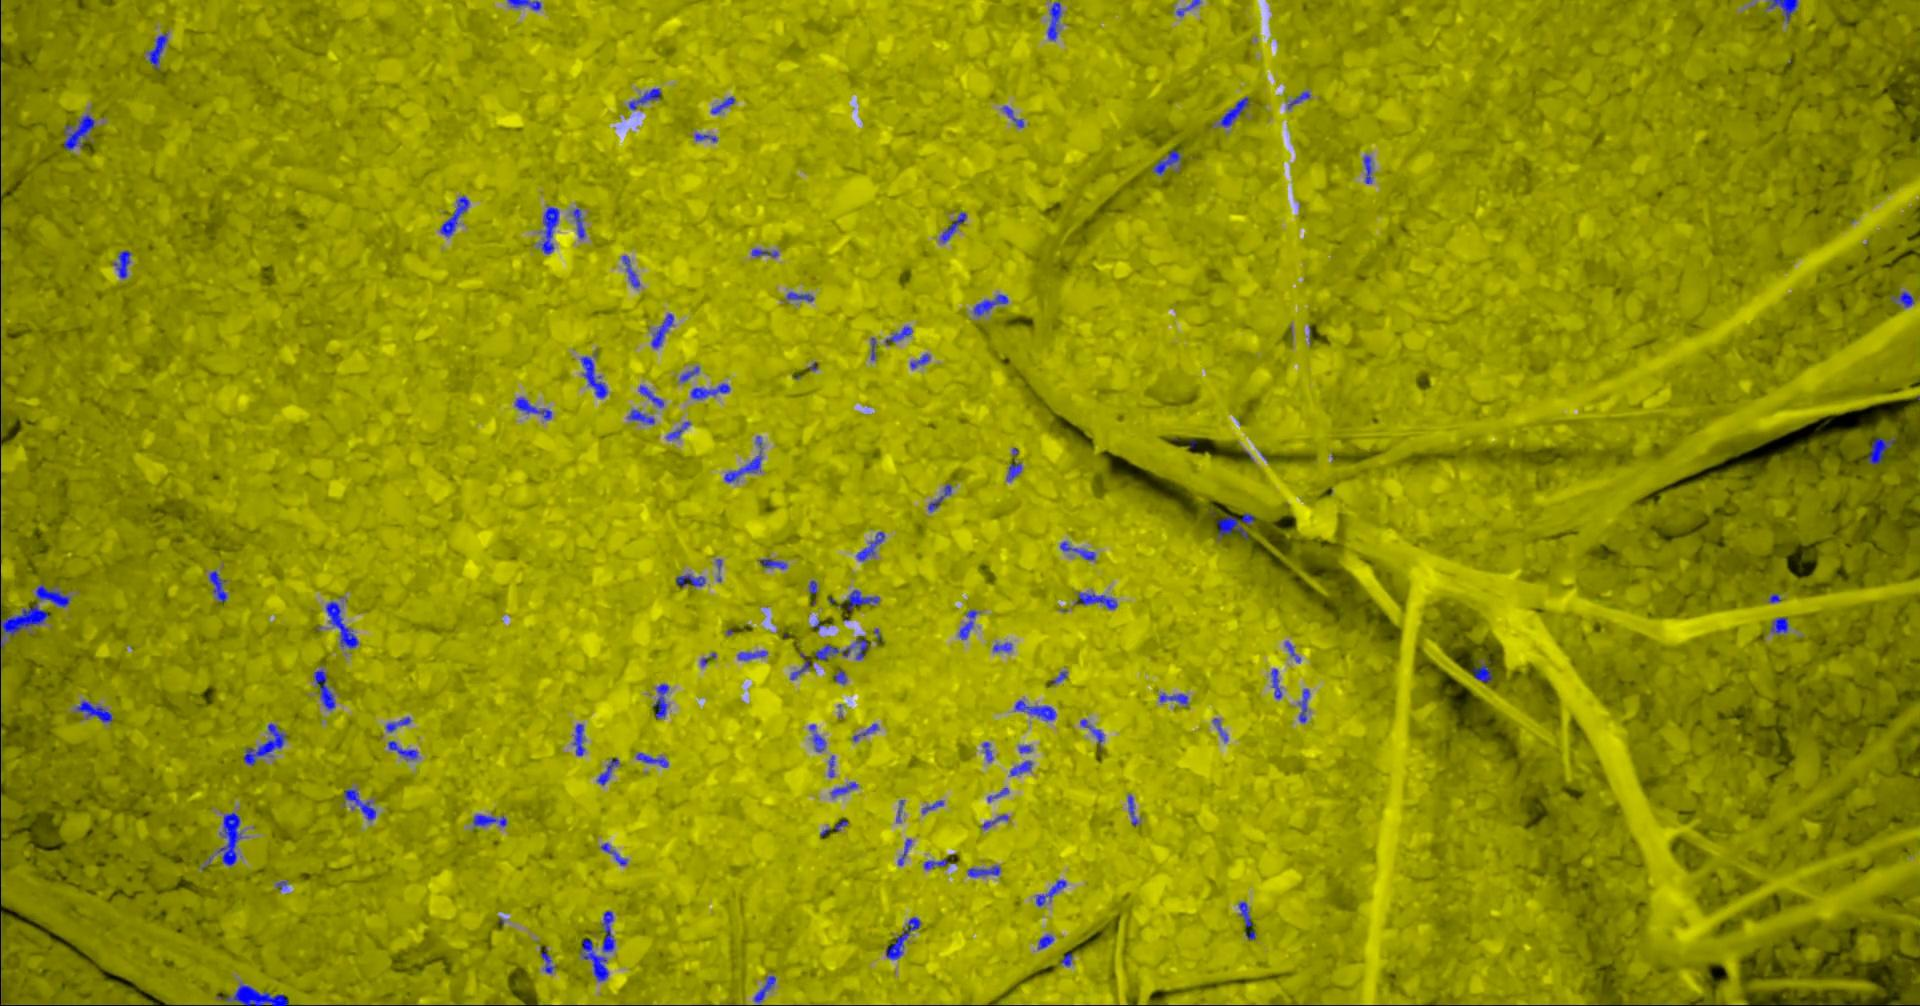ant: (0, 603, 48, 648), (243, 723, 286, 765), (723, 436, 761, 481), (216, 983, 288, 1005), (325, 601, 358, 648), (885, 917, 919, 959), (216, 812, 241, 865), (579, 939, 608, 981), (439, 196, 469, 236), (62, 114, 94, 150), (580, 356, 607, 398), (343, 788, 375, 821), (1217, 512, 1255, 539), (1217, 97, 1248, 127), (538, 206, 557, 253), (312, 669, 334, 709), (75, 699, 112, 721), (1015, 700, 1055, 720), (856, 531, 884, 560), (1035, 879, 1065, 906), (940, 211, 965, 243), (36, 583, 69, 607), (514, 398, 551, 419), (1867, 437, 1895, 465), (651, 312, 673, 348), (147, 32, 168, 69), (842, 589, 879, 610), (973, 293, 1007, 315), (1079, 719, 1103, 749), (629, 88, 662, 109), (1074, 592, 1117, 608), (927, 483, 951, 511), (1766, 0, 1797, 22), (957, 608, 979, 639), (814, 644, 853, 661), (1153, 149, 1178, 174), (789, 652, 811, 680), (599, 842, 627, 865), (599, 909, 615, 951), (1059, 541, 1095, 559), (1238, 901, 1255, 939), (596, 757, 618, 784), (690, 384, 729, 399), (753, 976, 775, 1002), (621, 255, 639, 287), (208, 570, 226, 602), (387, 741, 417, 760), (1048, 0, 1062, 39), (1006, 447, 1021, 481), (653, 683, 668, 718), (639, 385, 663, 406), (635, 752, 668, 767), (112, 250, 130, 278), (885, 326, 912, 344), (808, 724, 825, 751), (1002, 105, 1023, 127), (1470, 661, 1492, 682), (665, 420, 690, 439), (852, 723, 877, 741), (820, 819, 847, 836), (830, 781, 857, 796), (571, 723, 584, 754), (710, 97, 734, 113), (1159, 694, 1187, 708), (1175, 0, 1200, 15), (982, 814, 1007, 829), (540, 948, 555, 973), (1298, 688, 1309, 721), (472, 814, 505, 826), (627, 409, 654, 423), (571, 208, 584, 238), (968, 865, 999, 876), (1288, 91, 1309, 108), (676, 574, 703, 587), (385, 716, 410, 730), (897, 840, 910, 865), (507, 0, 541, 10), (1270, 668, 1281, 699), (1010, 760, 1032, 775), (923, 857, 954, 869), (1284, 641, 1300, 662), (737, 650, 767, 661), (1128, 795, 1138, 826), (855, 635, 867, 659), (1895, 291, 1912, 307), (1770, 616, 1788, 633), (910, 353, 930, 368), (679, 366, 698, 381), (921, 800, 943, 813), (786, 291, 813, 301), (759, 558, 786, 568), (1363, 155, 1371, 183), (750, 248, 777, 257), (1037, 934, 1053, 949), (982, 741, 992, 761), (992, 641, 1011, 652), (1059, 951, 1072, 967), (695, 133, 716, 141), (834, 669, 846, 683)
